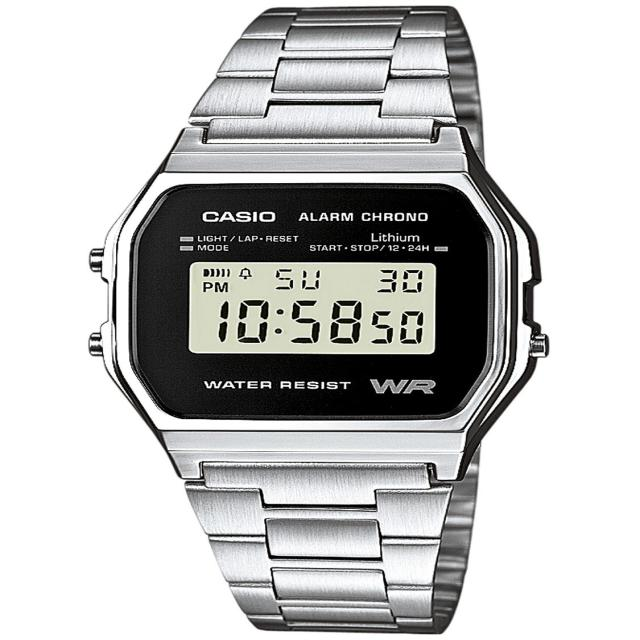watch: (89, 10, 544, 631)
